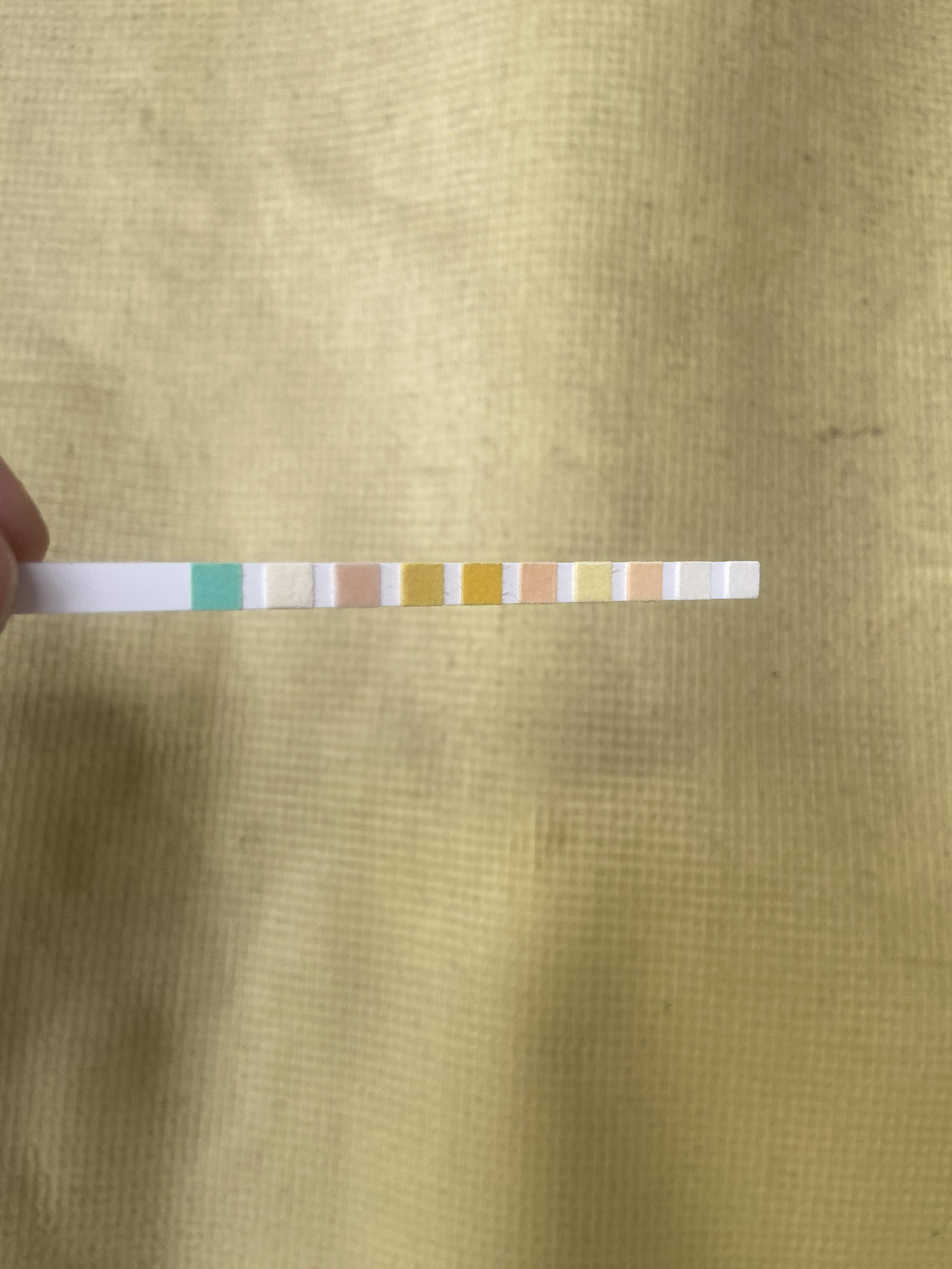Bilirubin: (268, 564, 313, 606)
Blood: (464, 565, 500, 603)
Glucose: (193, 566, 242, 608)
Ketone: (338, 565, 378, 607)
Leukocytes: (731, 563, 759, 597)
Nitrite: (681, 562, 710, 599)
Protein: (578, 564, 611, 601)
SpGravity: (405, 566, 442, 604)
Urobilinogen: (631, 564, 662, 599)
pH: (522, 564, 555, 602)
strip: (23, 562, 760, 615)
